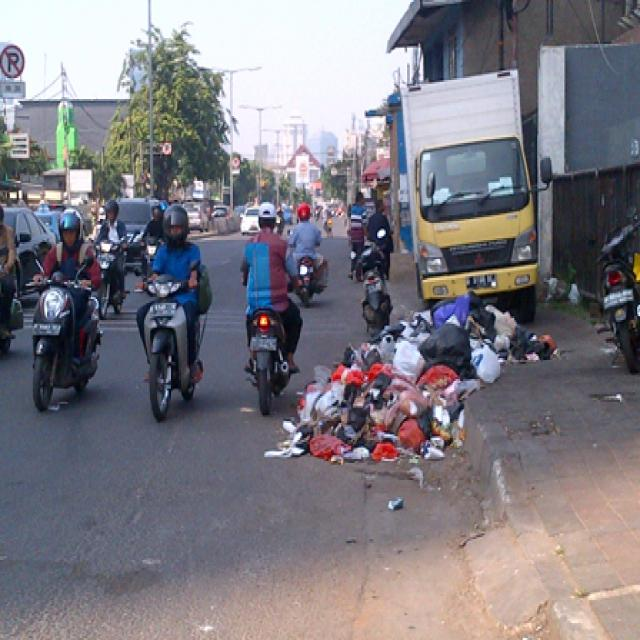trash: (324, 298, 558, 489)
